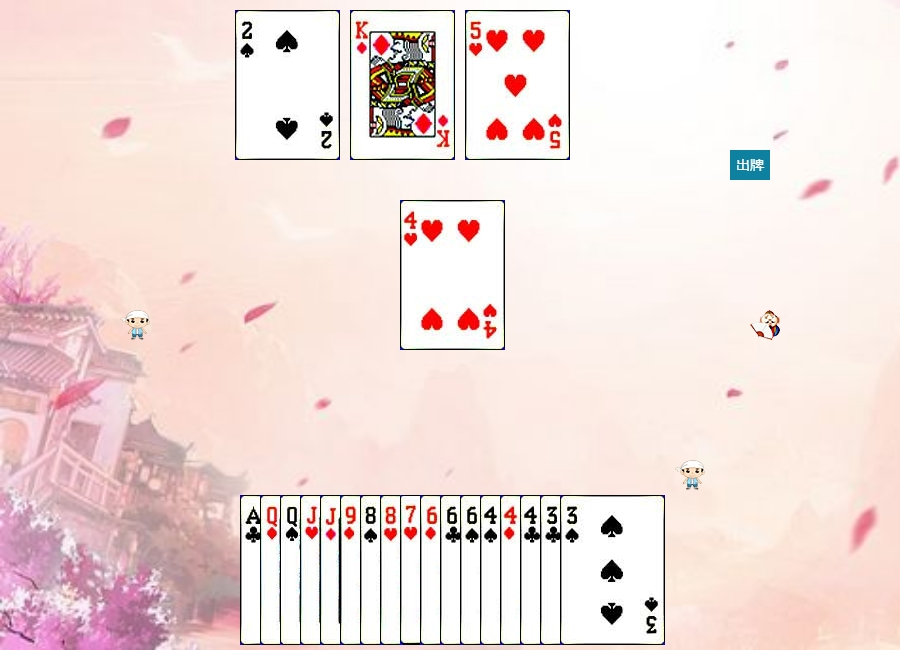11~1: (320, 495, 425, 645)
11~3: (300, 495, 405, 645)
12~1: (260, 495, 365, 645)
12~4: (280, 495, 385, 645)
13~1: (350, 10, 455, 160)
14~2: (240, 495, 345, 645)
15~4: (235, 10, 340, 160)
3~2: (540, 495, 645, 645)
3~4: (560, 495, 665, 645)
4~1: (500, 495, 605, 645)
4~2: (520, 495, 625, 645)
4~3: (400, 200, 505, 350)
4~4: (480, 495, 585, 645)
5~3: (465, 10, 570, 160)
6~1: (420, 495, 525, 645)
6~2: (440, 495, 545, 645)
6~4: (460, 495, 565, 645)
7~3: (400, 495, 505, 645)
8~3: (380, 495, 485, 645)
8~4: (360, 495, 465, 645)
9~1: (340, 495, 445, 645)
